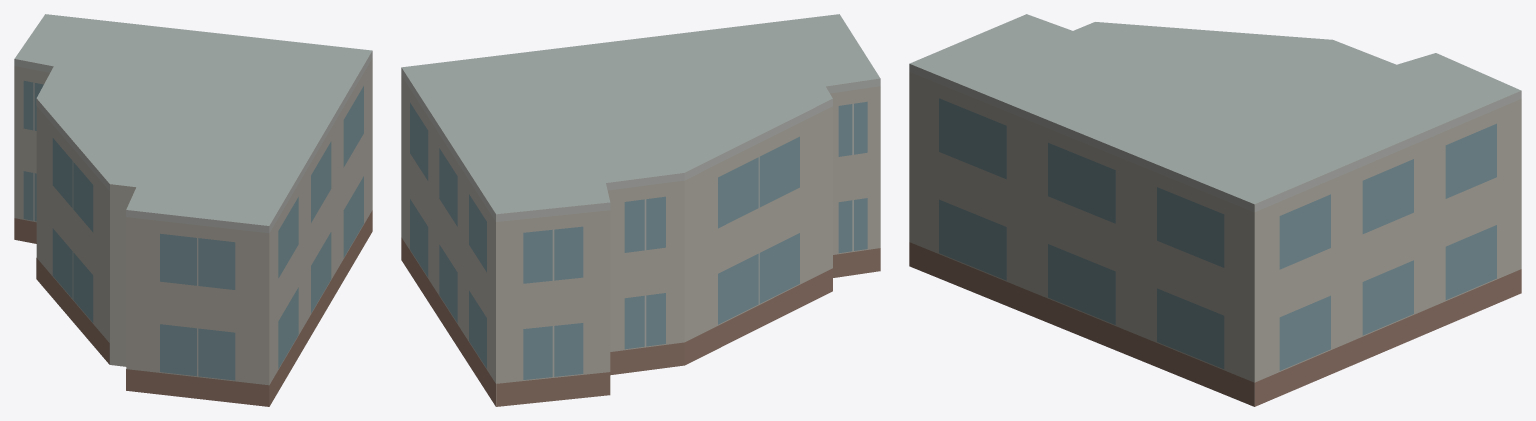
File: survey-upis-32926686.glb
3 views of the same model, side by side, from view 1: azimuth 30°, elevation 25°; view 2: azimuth 150°, elevation 25°; view 3: azimuth 270°, elevation 25° (orthographic). The views are drawn at different scales.
Parts seen in each view (by area): view 1: survey-upis-32926686.tmp; view 2: survey-upis-32926686.tmp; view 3: survey-upis-32926686.tmp.
Part boxes in pixels (box(x1,y1,x2,y2)): survey-upis-32926686.tmp: box(14, 14, 372, 406); survey-upis-32926686.tmp: box(401, 14, 880, 406); survey-upis-32926686.tmp: box(909, 14, 1521, 406).
Bounding box in the file's own units: 12.3 × 6.1 × 16.72.
